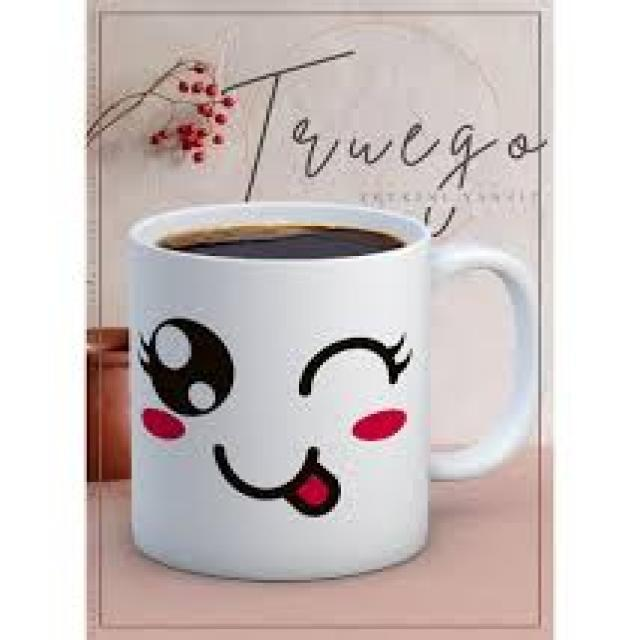taza: (126, 201, 540, 580)
